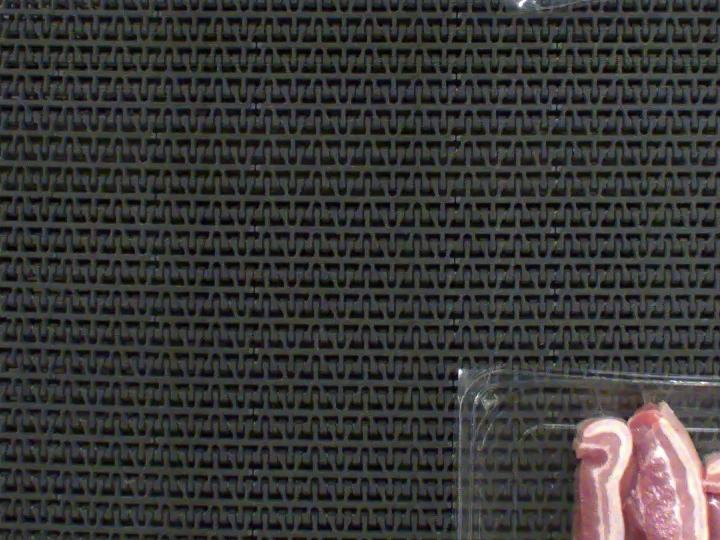packaging-error: (639, 384, 678, 412)
